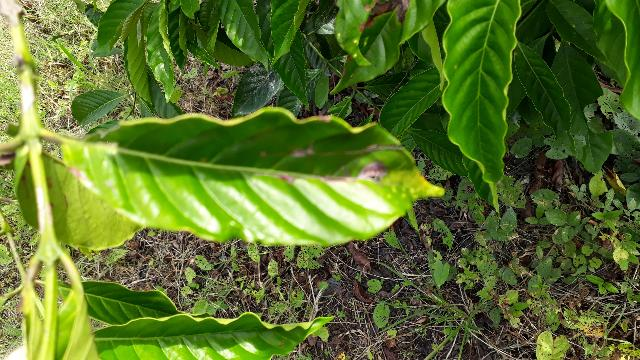rust_level_1: (63, 107, 445, 248)
